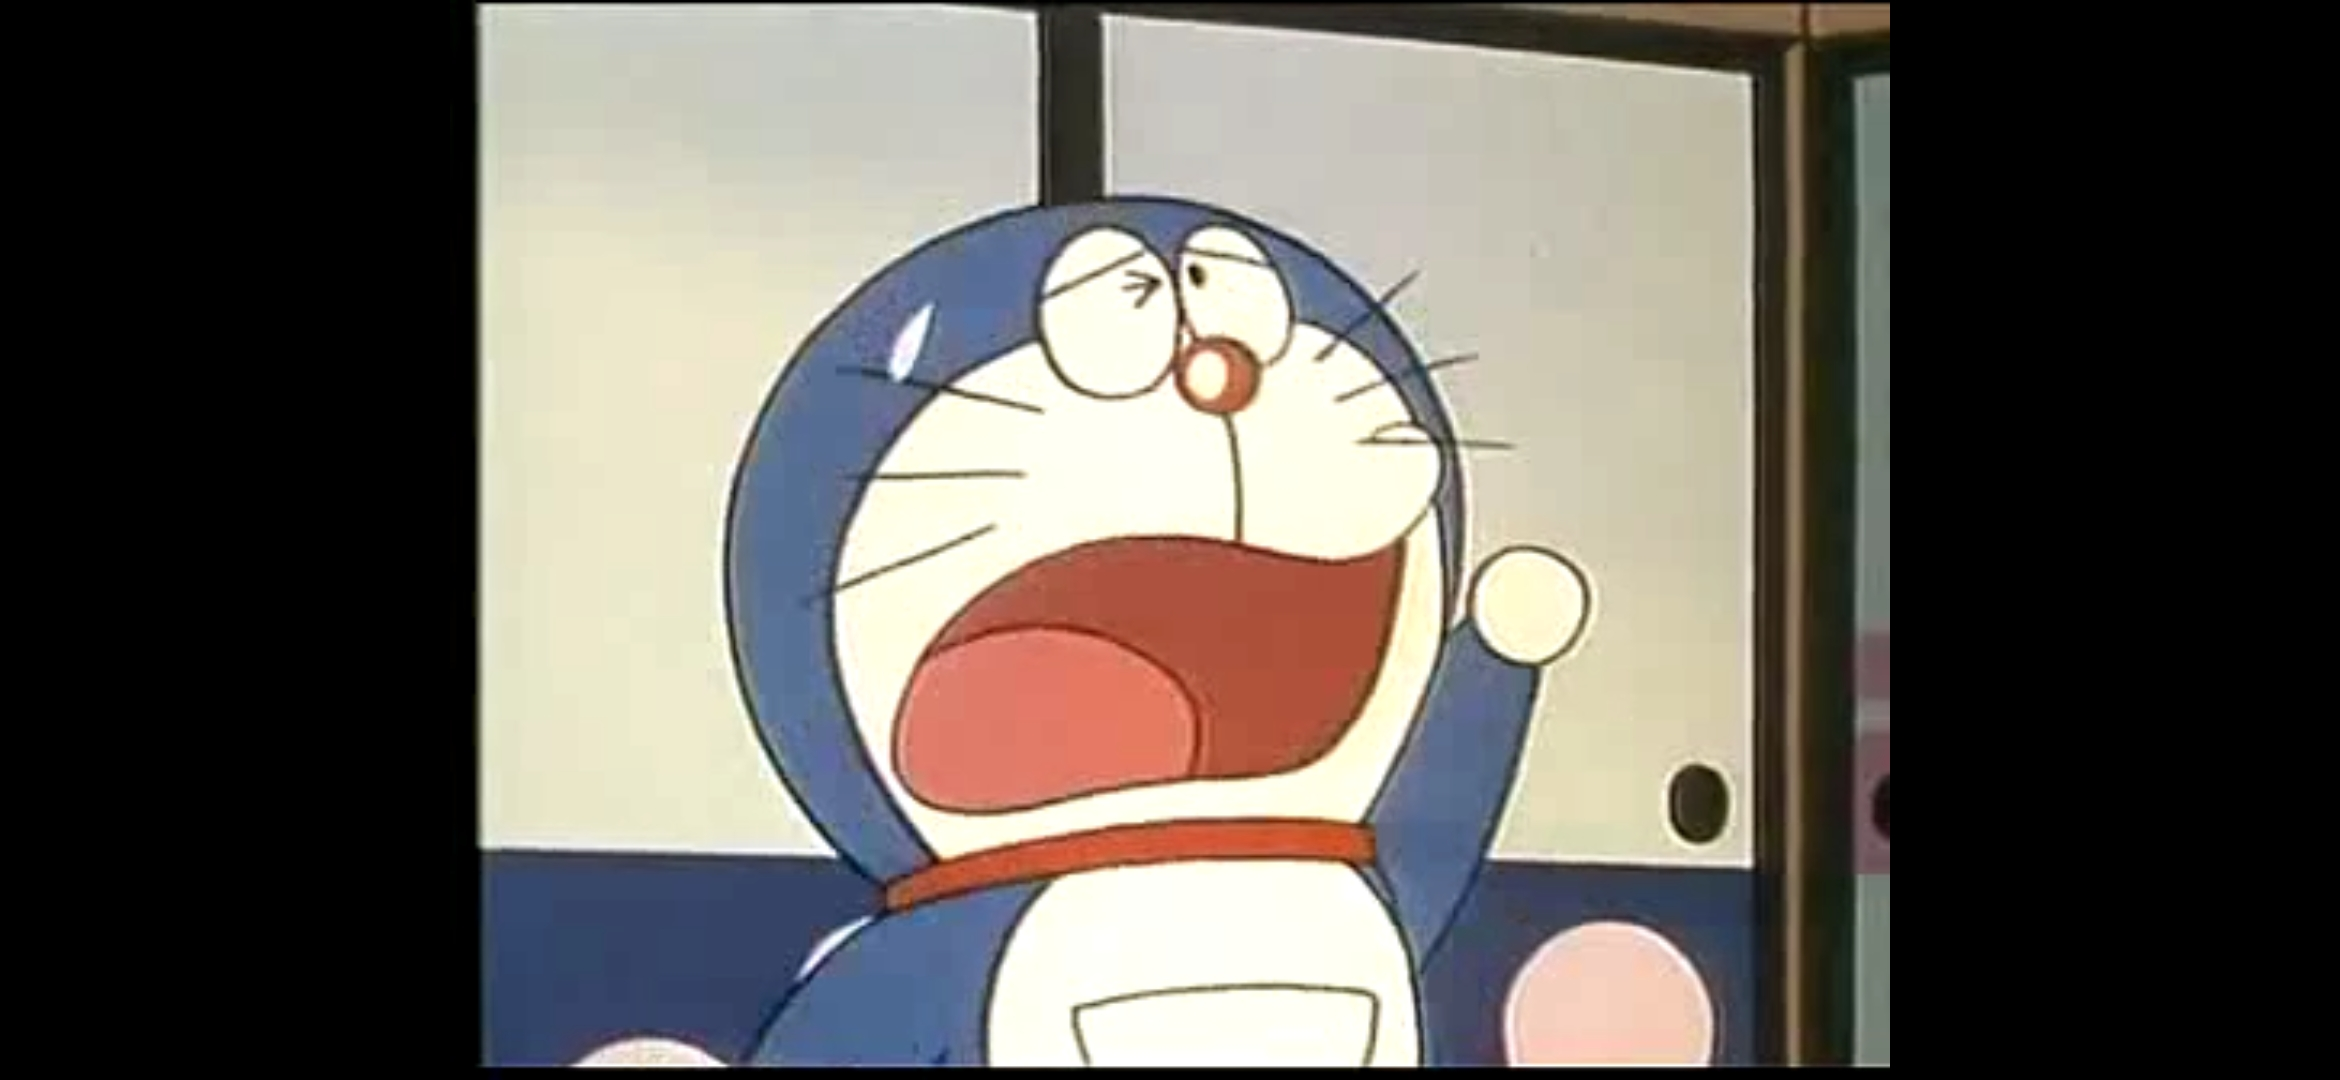Doraemon: (719, 194, 1462, 882)
